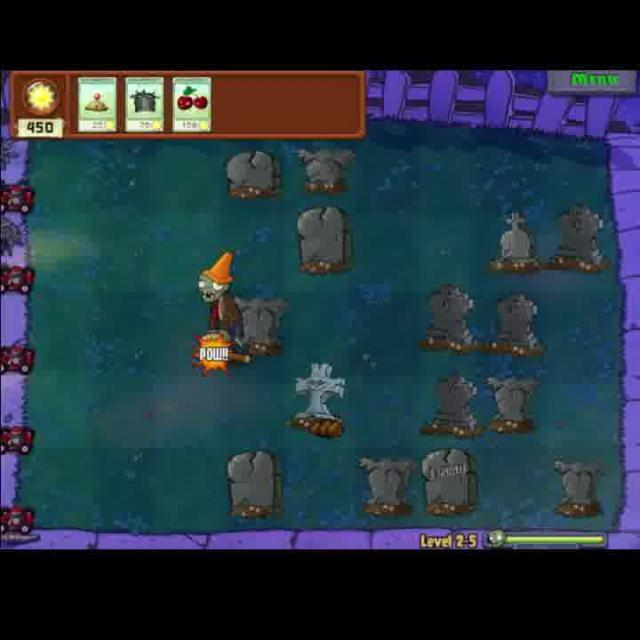coins: (192, 244, 248, 366)
